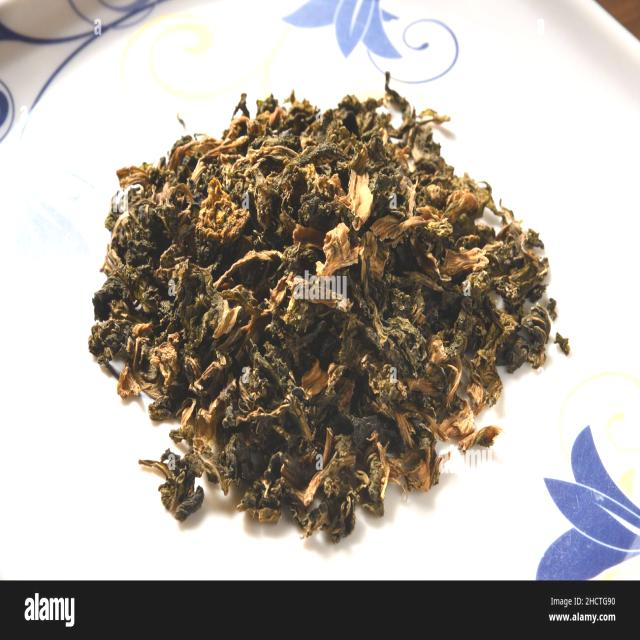NA: (152, 139, 548, 441)
